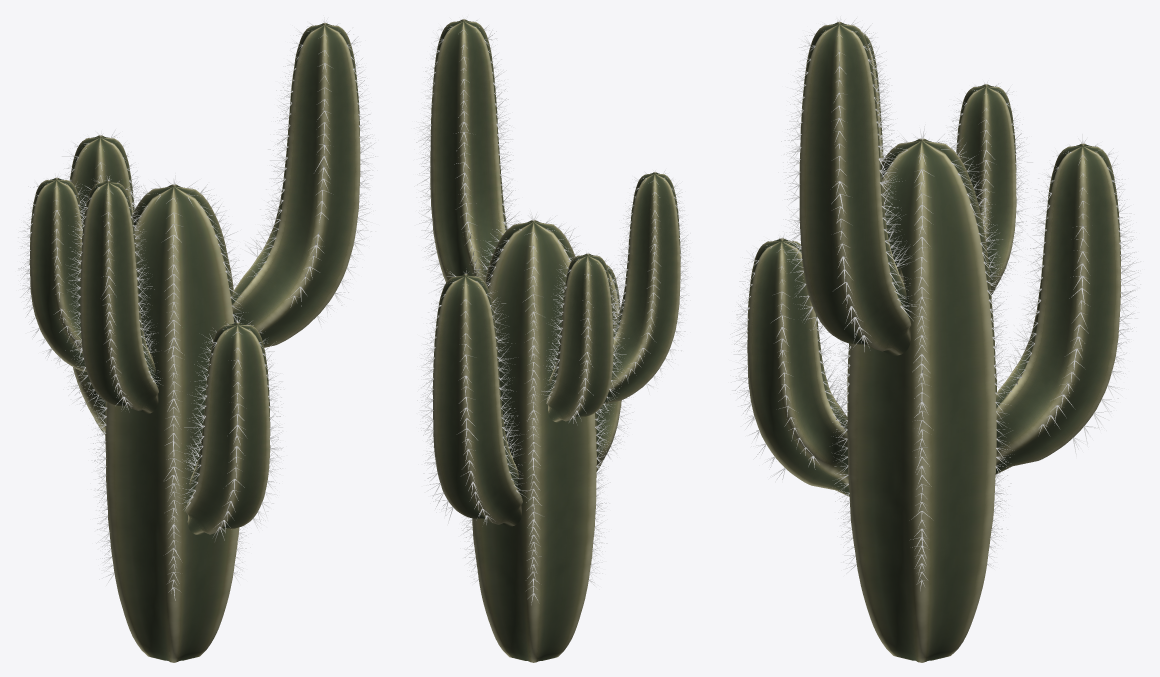
File: cactus.fbx
The picture shows the model from 3 angles, left to right: view 1: azimuth 30°, elevation 25°; view 2: azimuth 150°, elevation 25°; view 3: azimuth 270°, elevation 25°; orthographic projection. The views are drawn at different scales.
Visible parts, largest first — view 1: cactus_001_albedo_001_Mat, cactus_001_spike_albedo_002_Mat; view 2: cactus_001_albedo_001_Mat, cactus_001_spike_albedo_002_Mat; view 3: cactus_001_albedo_001_Mat, cactus_001_spike_albedo_002_Mat.
Part boxes in pixels (bbox=[...]): cactus_001_albedo_001_Mat: bbox=[29, 23, 360, 662]; cactus_001_spike_albedo_002_Mat: bbox=[18, 15, 377, 600]; cactus_001_albedo_001_Mat: bbox=[430, 19, 680, 662]; cactus_001_spike_albedo_002_Mat: bbox=[414, 16, 690, 604]; cactus_001_albedo_001_Mat: bbox=[747, 22, 1120, 662]; cactus_001_spike_albedo_002_Mat: bbox=[730, 16, 1140, 590].
Bounding box in the file's own units: 17.01 × 33.7 × 18.47.
